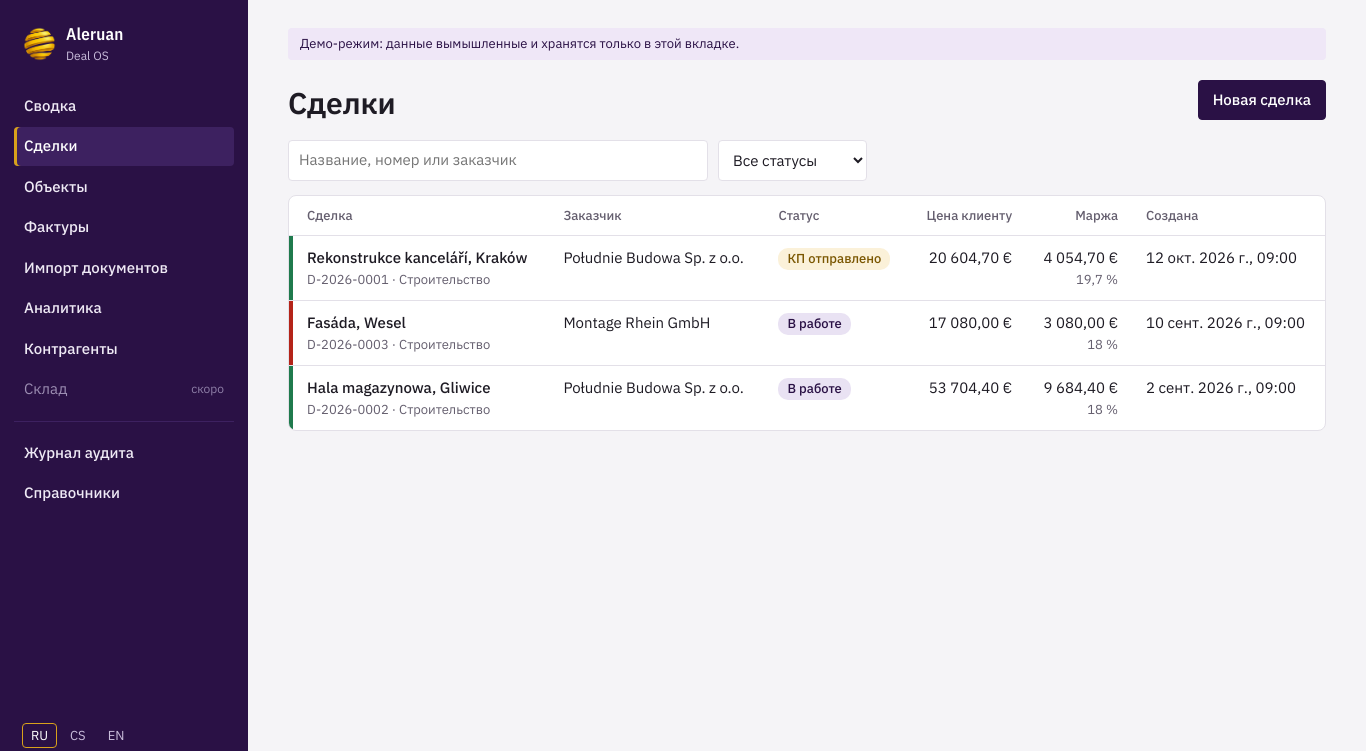
Test: site screens › offers to open a site on a won deal
The width and height of the screenshot is (1366, 751).
Click the link "Rekonstrukce kanceláří, Kraków": [417, 258] box [307,248,527,267]
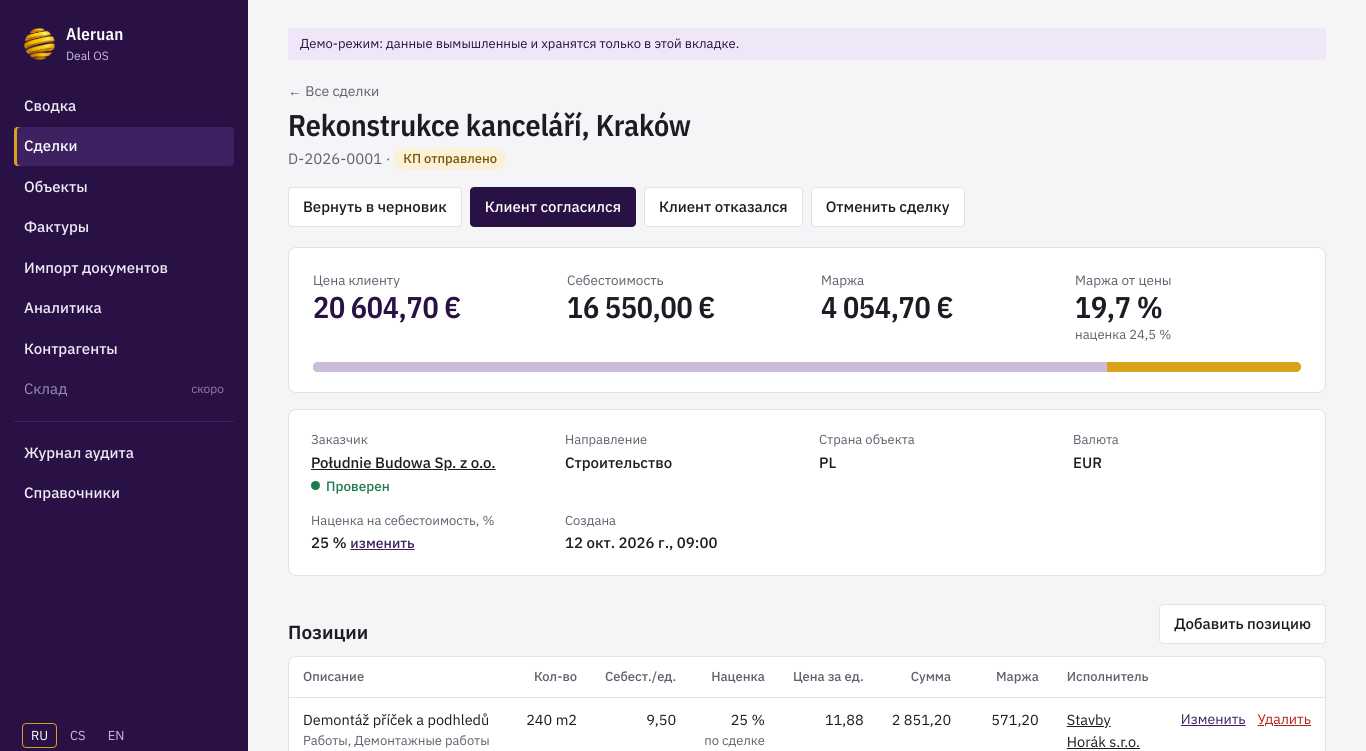
Click the button "Клиент согласился": [553, 207] box [470,186,636,227]
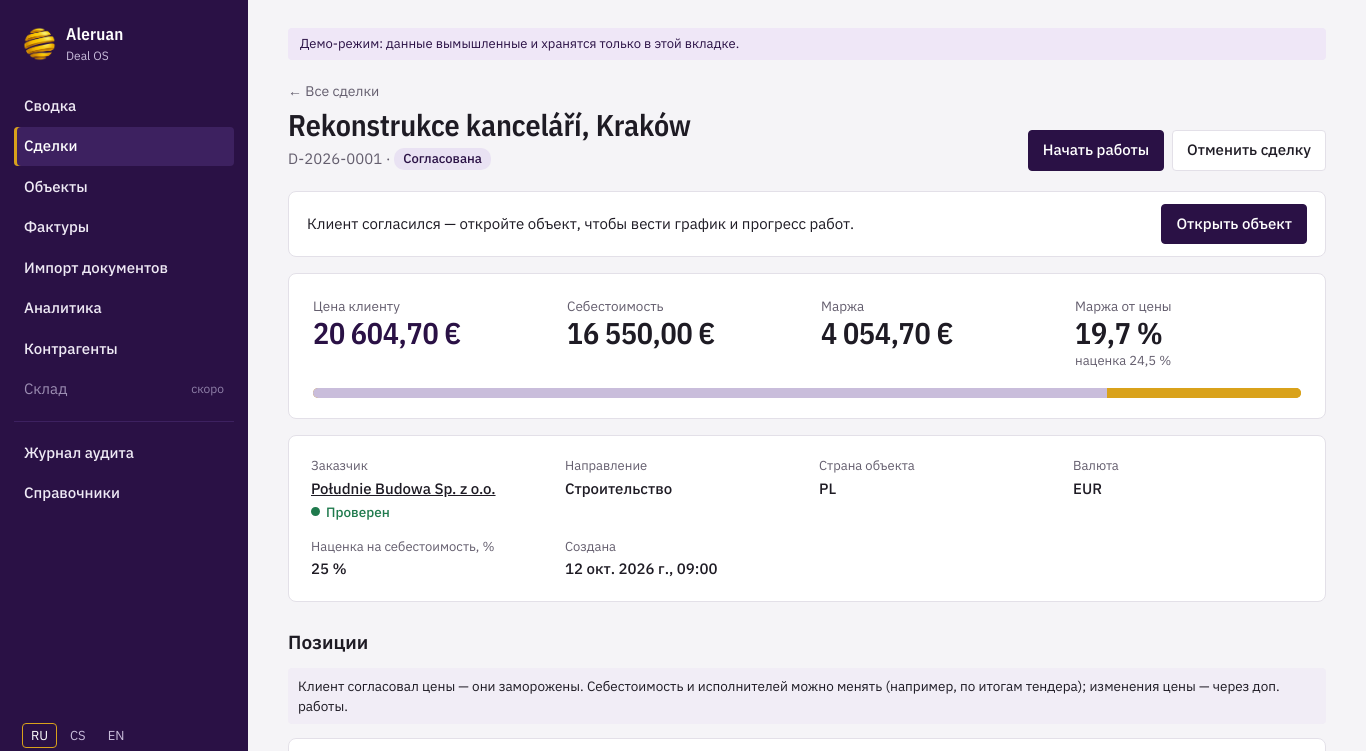
Click the button "Открыть объект": [1234, 224] box [1162,204,1307,244]
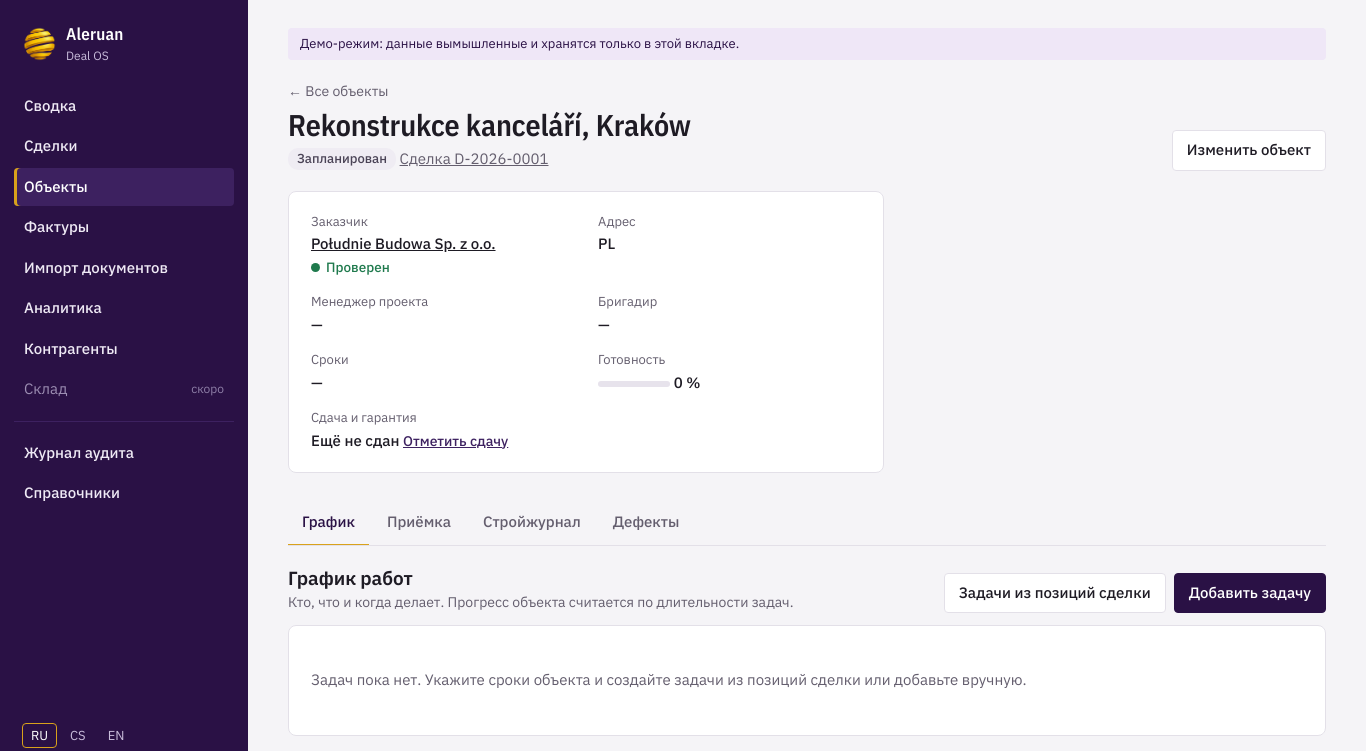
Expected: the heading "Rekonstrukce kanceláří, Kraków" is shown, [288,108,691,142]
Expected: the link "← Все объекты" is shown, [288,80,388,102]
Expected: the text "Задач пока нет" is shown, [311,670,1026,689]
